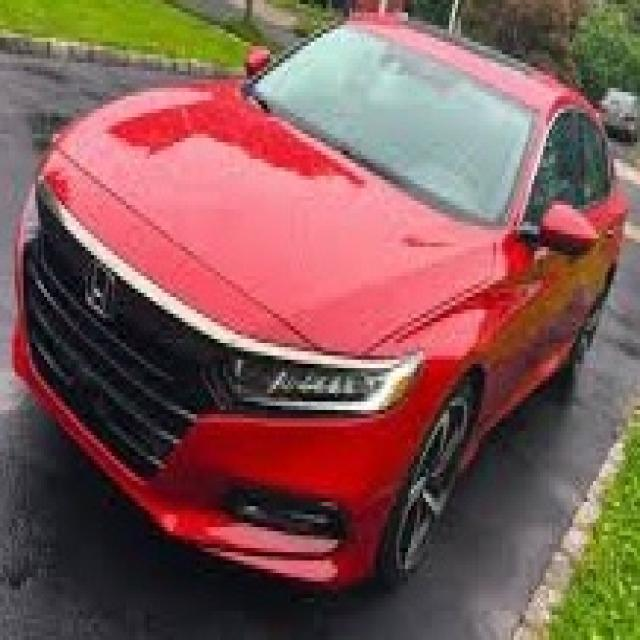red: (26, 19, 632, 514)
